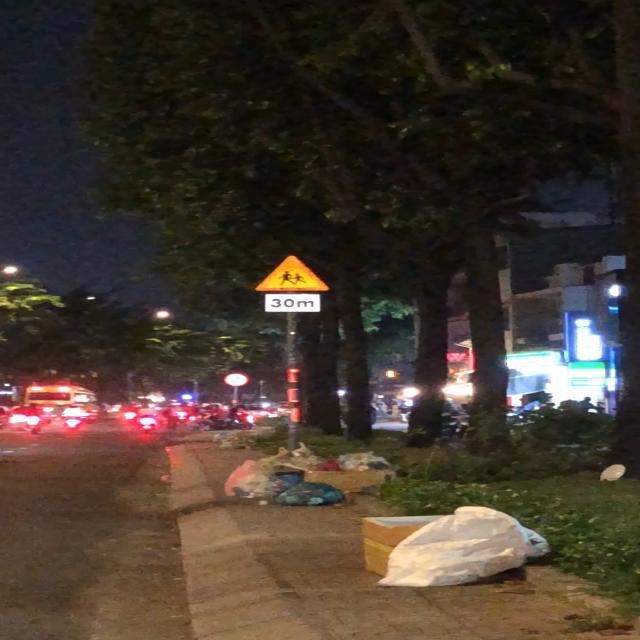Bien bao tre em: (253, 254, 336, 292)
